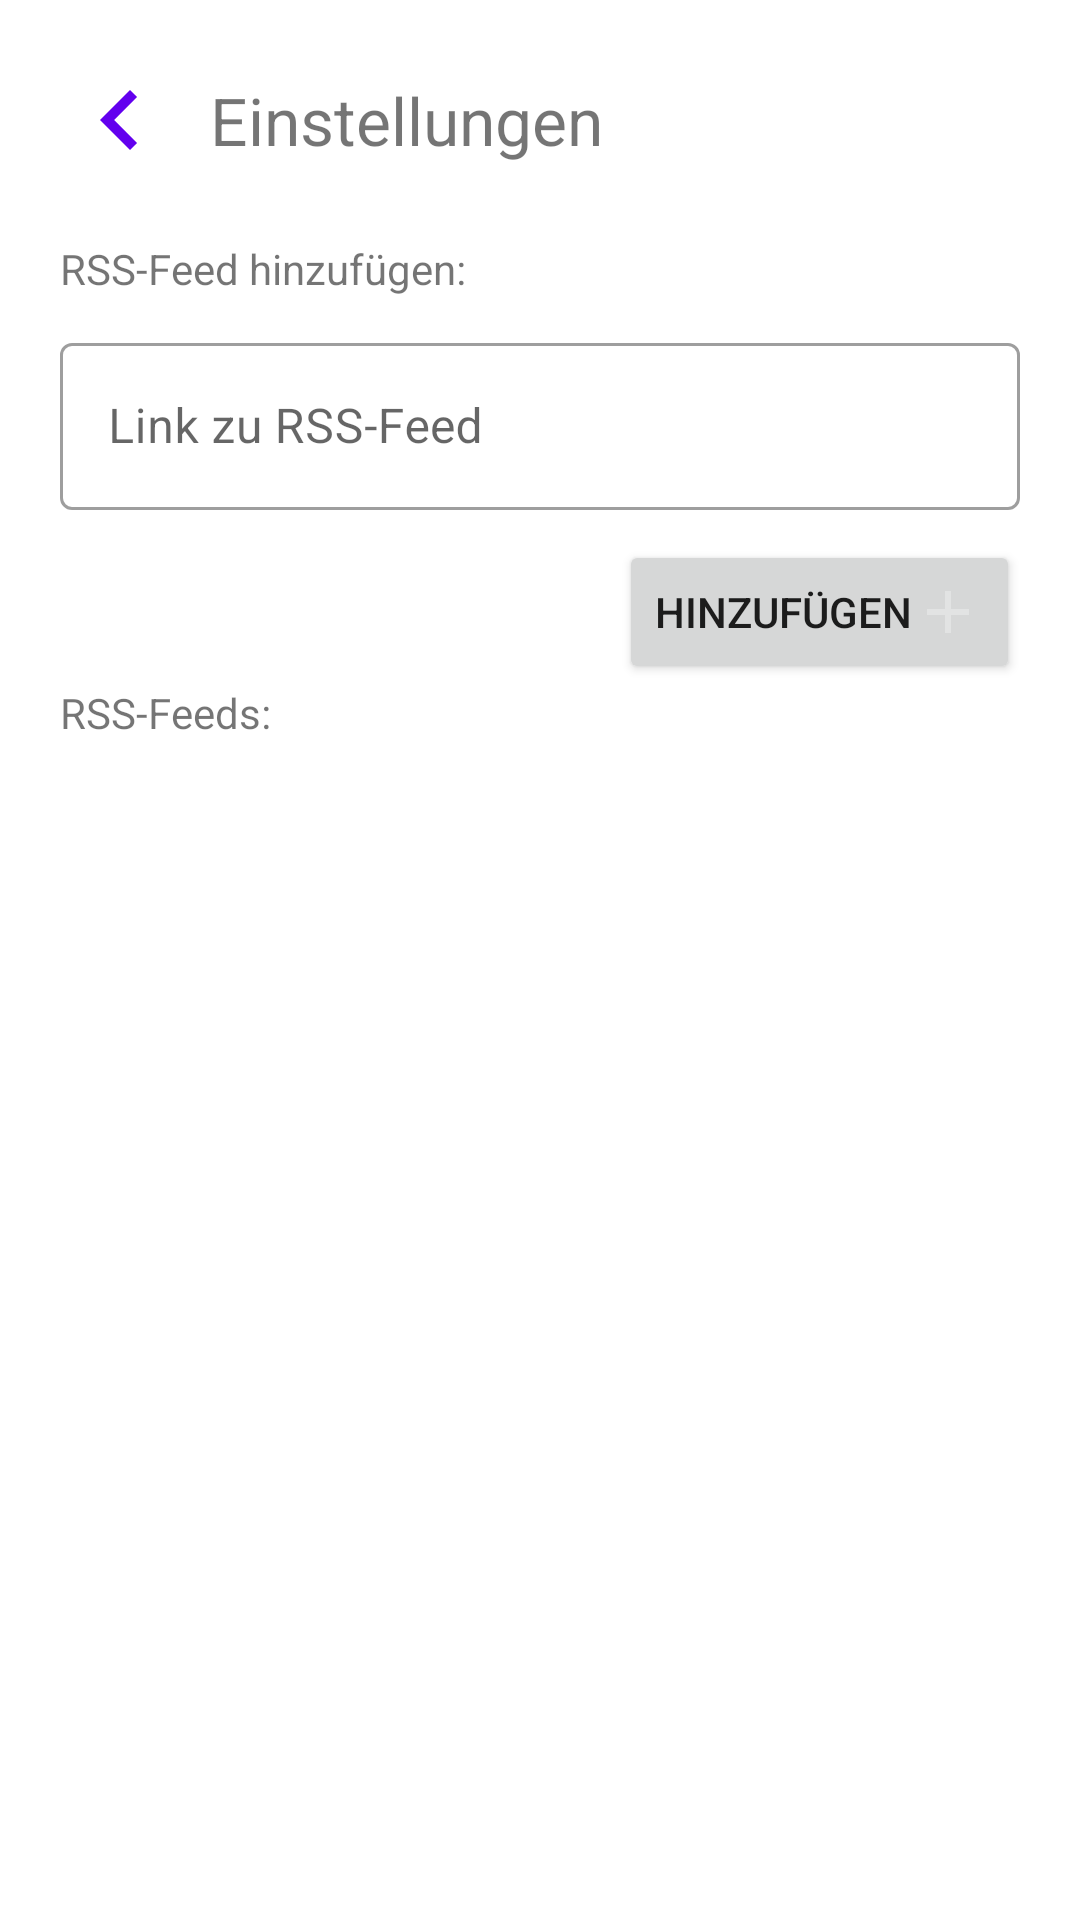

Named icons in this screenshot (1080 × 1920) and their bounding boxes, (x1, y1, x2, y2):
keyboard arrow left: (100, 90, 137, 150)
